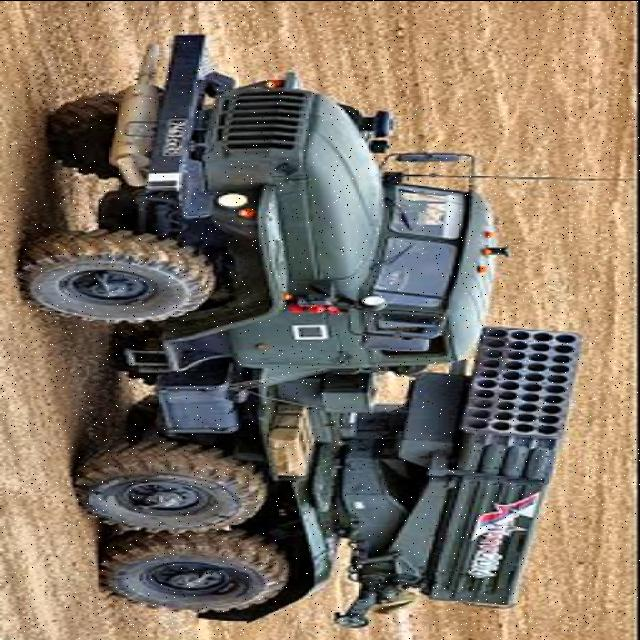MLRS: (28, 40, 590, 619)
